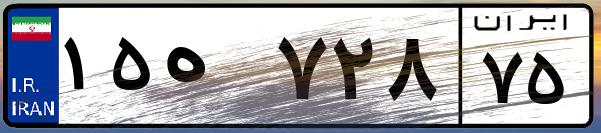1: (57, 26, 110, 100)
2: (330, 28, 385, 110)
5: (525, 38, 570, 115), (110, 28, 158, 98)
7: (270, 28, 330, 110), (475, 38, 525, 113)
8: (385, 28, 445, 110)
ه: (158, 20, 270, 120)
